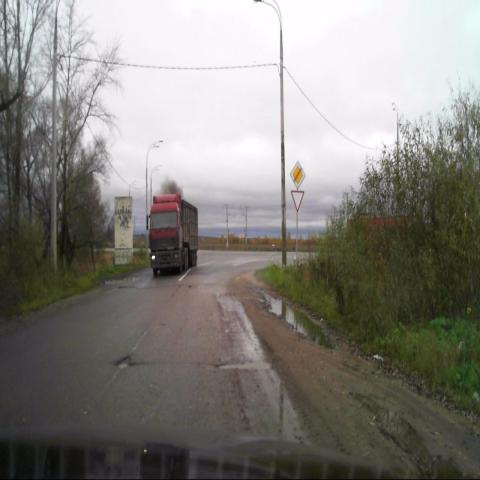2_2: (290, 160, 306, 190)
